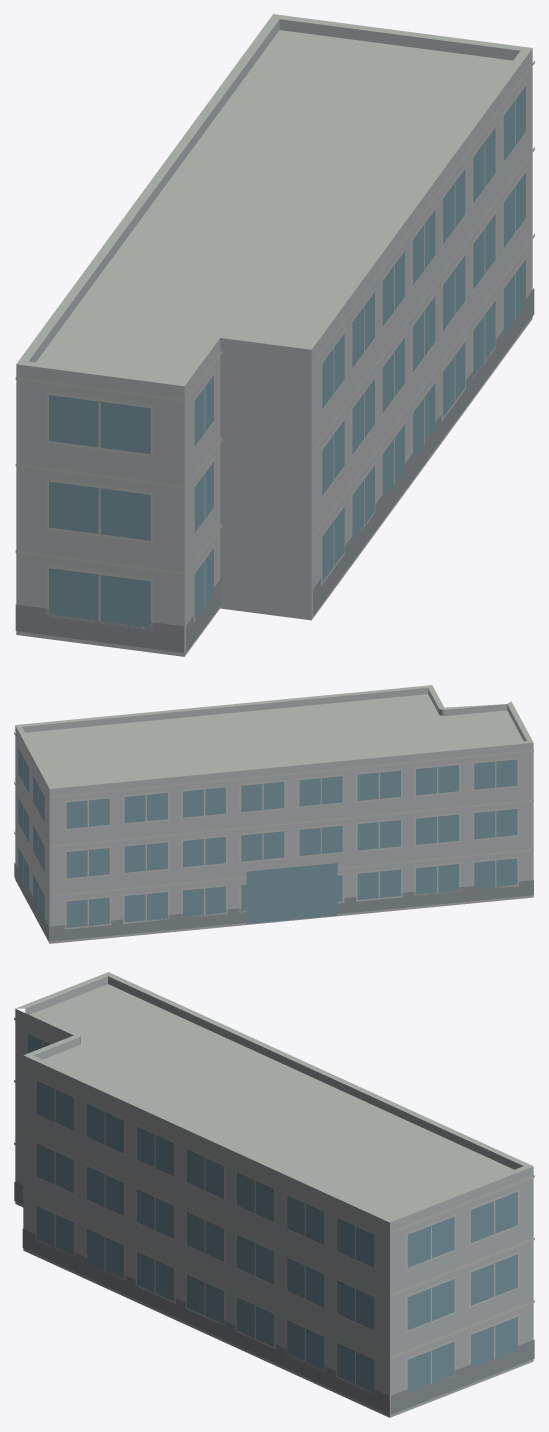
The model's file is public-d3f95e6f-03ba-4022-87f2-d5c318e5487b.glb.
3 views of the same model, one above another, from view 1: azimuth 30°, elevation 25°; view 2: azimuth 150°, elevation 25°; view 3: azimuth 270°, elevation 25° (orthographic). The views are drawn at different scales.
Parts seen in each view (by area): view 1: public-d3f95e6f-03ba-4022-87f2-d5c318e5487b; view 2: public-d3f95e6f-03ba-4022-87f2-d5c318e5487b; view 3: public-d3f95e6f-03ba-4022-87f2-d5c318e5487b.
Boxes of the visible parts, left/top/right/bottom form: public-d3f95e6f-03ba-4022-87f2-d5c318e5487b: left=15, top=14, right=534, bottom=656; public-d3f95e6f-03ba-4022-87f2-d5c318e5487b: left=14, top=685, right=533, bottom=943; public-d3f95e6f-03ba-4022-87f2-d5c318e5487b: left=14, top=972, right=534, bottom=1417.
Size of the model in its own units: 25.28 by 9.15 by 22.12.
